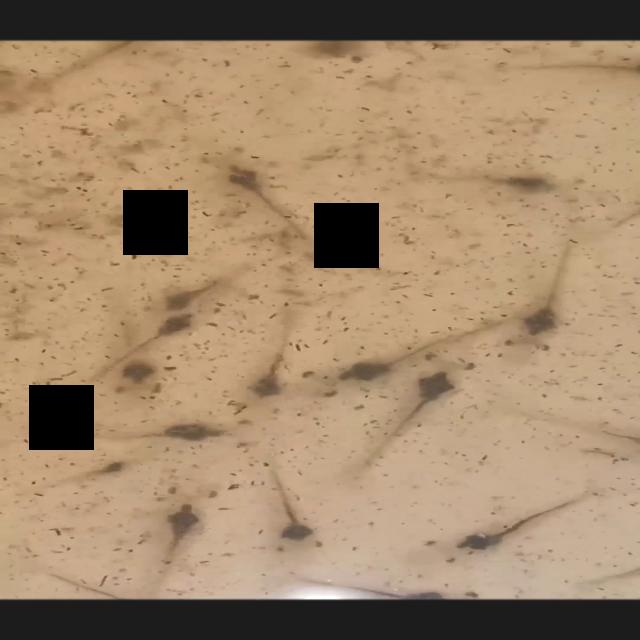shrimp: (180, 135, 343, 253), (353, 342, 489, 474), (310, 301, 504, 386), (419, 483, 603, 563), (401, 146, 615, 208), (117, 475, 241, 582), (224, 278, 316, 412), (244, 441, 344, 555), (506, 220, 580, 362), (84, 305, 214, 385), (64, 405, 266, 449), (20, 442, 165, 500), (151, 262, 247, 327)
